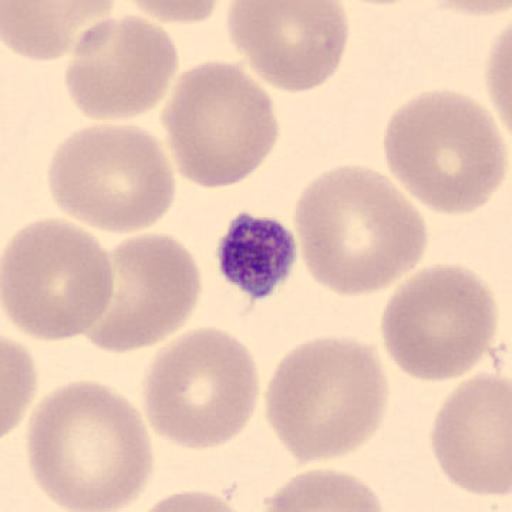Platelet: (214, 210, 299, 301)
RBC: (292, 162, 430, 298), (24, 378, 155, 512), (264, 334, 392, 467), (381, 86, 509, 219), (161, 58, 280, 192), (140, 326, 261, 451), (1, 215, 116, 345), (46, 122, 176, 236), (378, 262, 498, 383), (84, 231, 200, 353), (63, 15, 180, 122), (226, 1, 350, 94), (429, 371, 512, 498), (2, 0, 120, 62), (263, 467, 386, 512), (1, 334, 37, 440), (483, 22, 512, 142), (125, 489, 249, 512), (120, 0, 225, 25), (424, 0, 512, 17)
